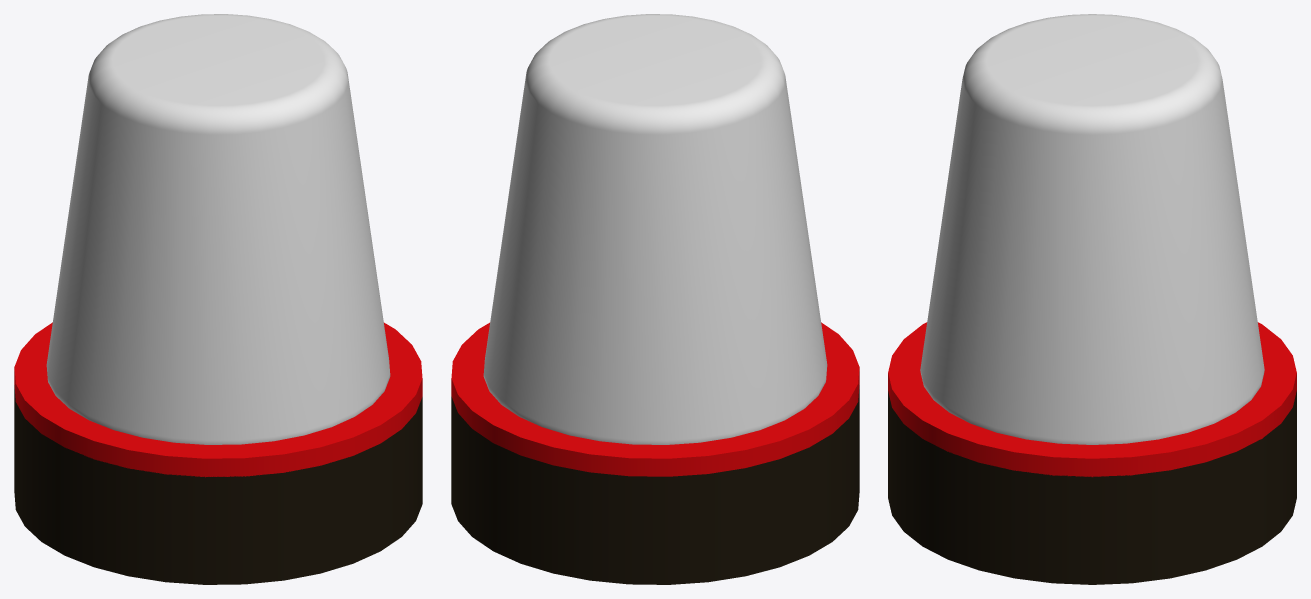
File: alarme.fbx
The picture shows the model from 3 angles, left to right: view 1: azimuth 30°, elevation 25°; view 2: azimuth 150°, elevation 25°; view 3: azimuth 270°, elevation 25°; orthographic projection.
Visible parts, largest first — view 1: Cylinder.002, Cylinder, Cylinder.001; view 2: Cylinder.002, Cylinder, Cylinder.001; view 3: Cylinder.002, Cylinder, Cylinder.001.
Boxes of the visible parts, bbox=[...] form: Cylinder.002: bbox=[46, 14, 390, 444]; Cylinder: bbox=[14, 385, 422, 584]; Cylinder.001: bbox=[14, 322, 422, 477]; Cylinder.002: bbox=[483, 14, 827, 444]; Cylinder: bbox=[451, 385, 859, 584]; Cylinder.001: bbox=[451, 322, 859, 476]; Cylinder.002: bbox=[920, 14, 1264, 444]; Cylinder: bbox=[888, 391, 1296, 584]; Cylinder.001: bbox=[888, 322, 1296, 477].
Size of the model in its own units: 200 by 236 by 200.
